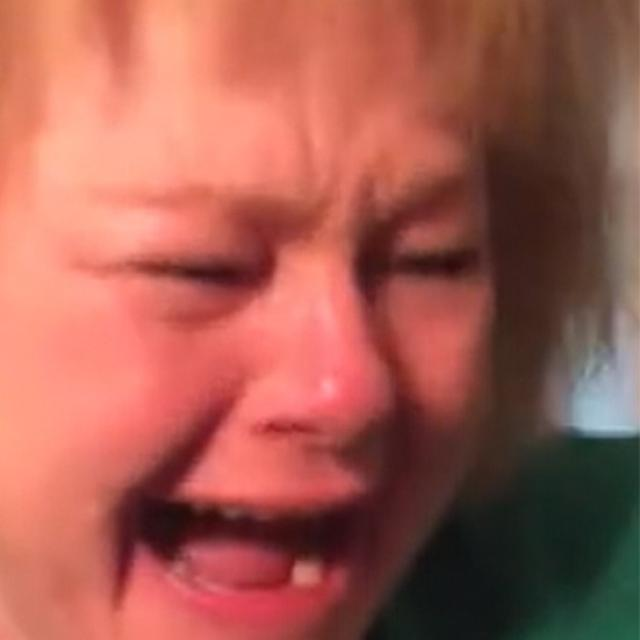Depress: (0, 7, 503, 639)
